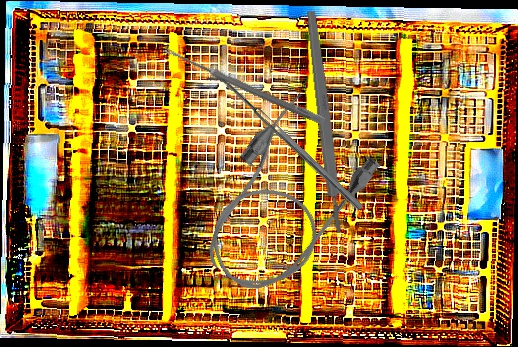Cannula: (179, 86, 387, 311)
Scalpel Handle: (303, 10, 346, 234)
Spatula Surgical: (205, 67, 364, 217)
Surgical Spoon: (161, 45, 327, 126)
